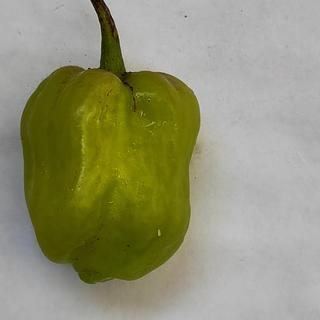striped: (117, 76, 141, 116)
